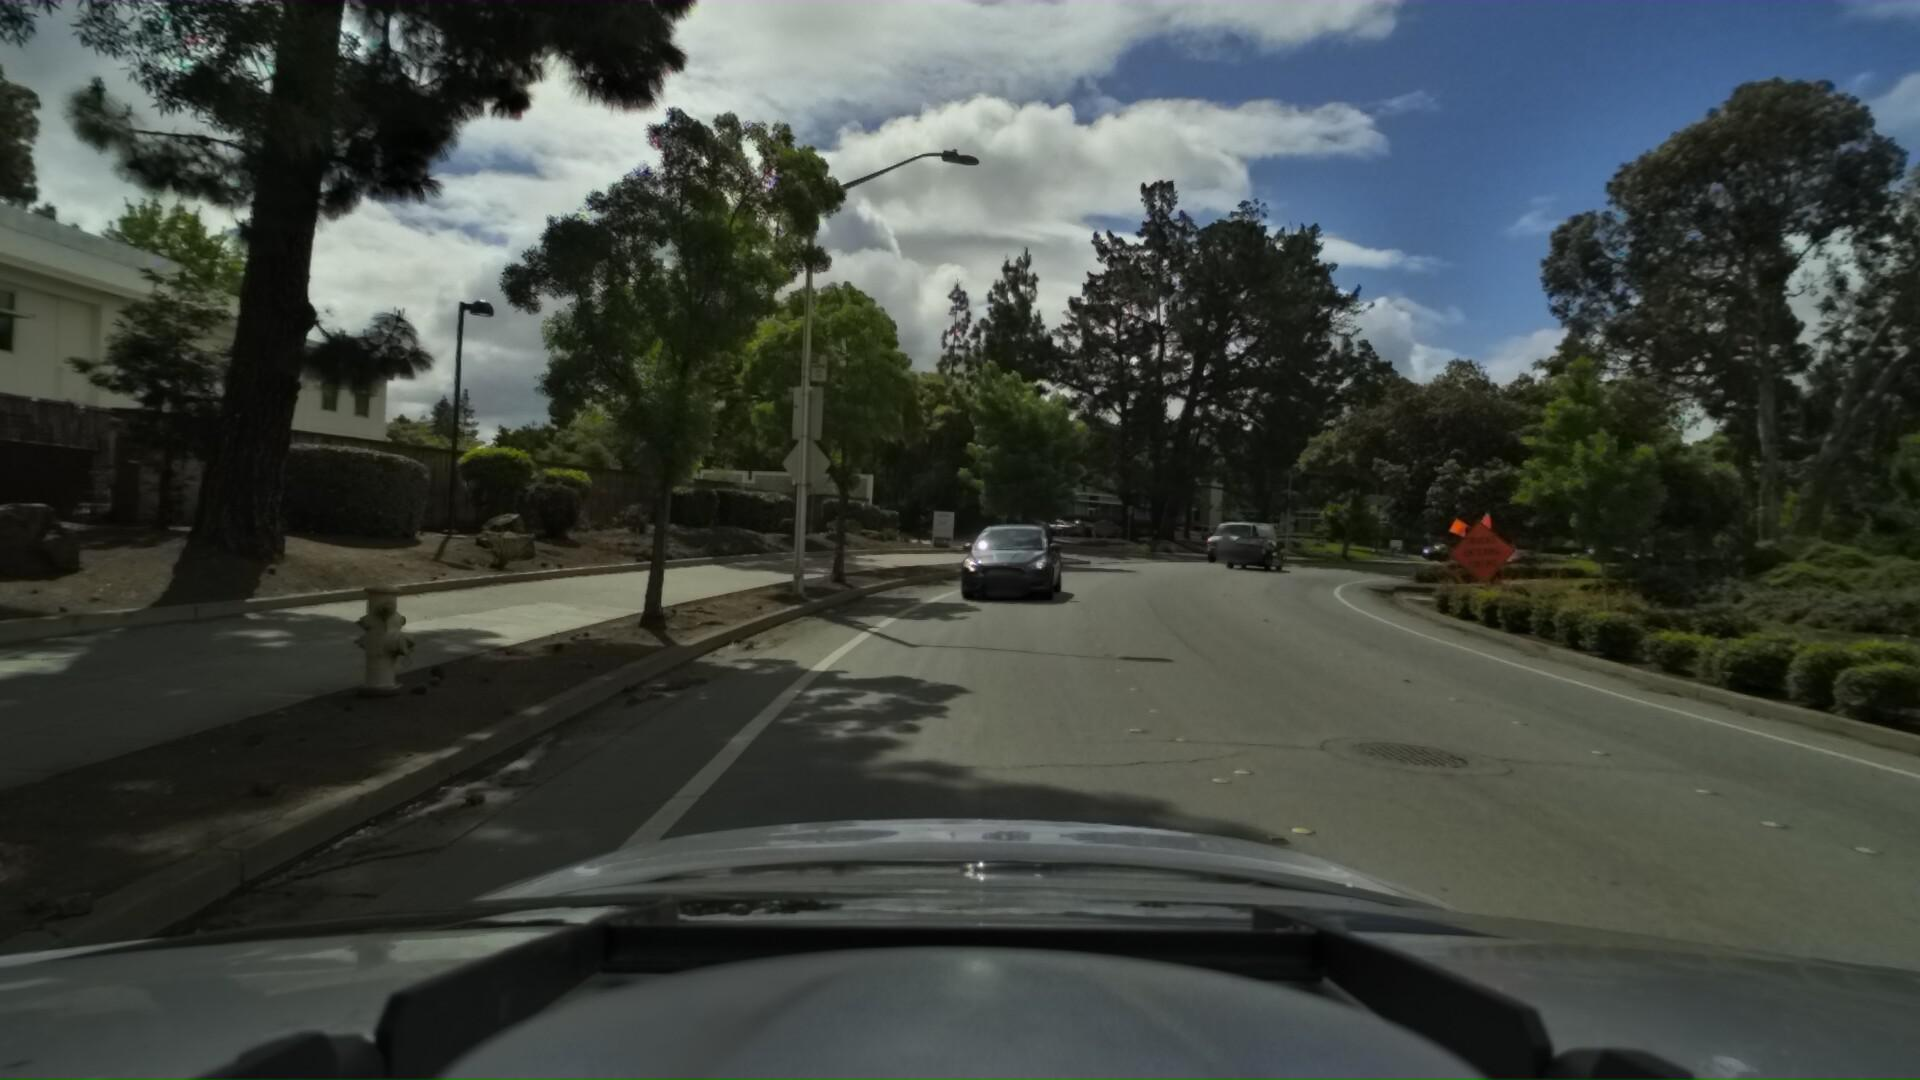car: (949, 509, 1068, 603), (1195, 509, 1283, 563), (1217, 524, 1284, 568)
